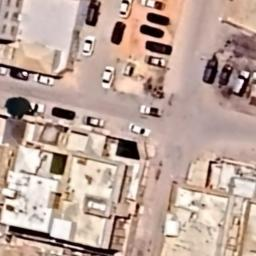pickup: (140, 103, 164, 118), (139, 0, 167, 10)
sedan: (144, 40, 174, 56), (138, 24, 166, 40), (142, 53, 170, 69), (110, 20, 126, 46), (100, 64, 116, 90), (50, 106, 78, 120), (146, 12, 172, 26), (80, 114, 106, 128), (218, 62, 232, 88), (32, 73, 56, 88), (128, 122, 152, 137), (21, 100, 46, 114), (81, 34, 95, 57), (8, 68, 32, 80), (118, 0, 133, 18), (0, 64, 7, 76)
van: (232, 68, 252, 95), (202, 58, 218, 86), (85, 0, 102, 26)
